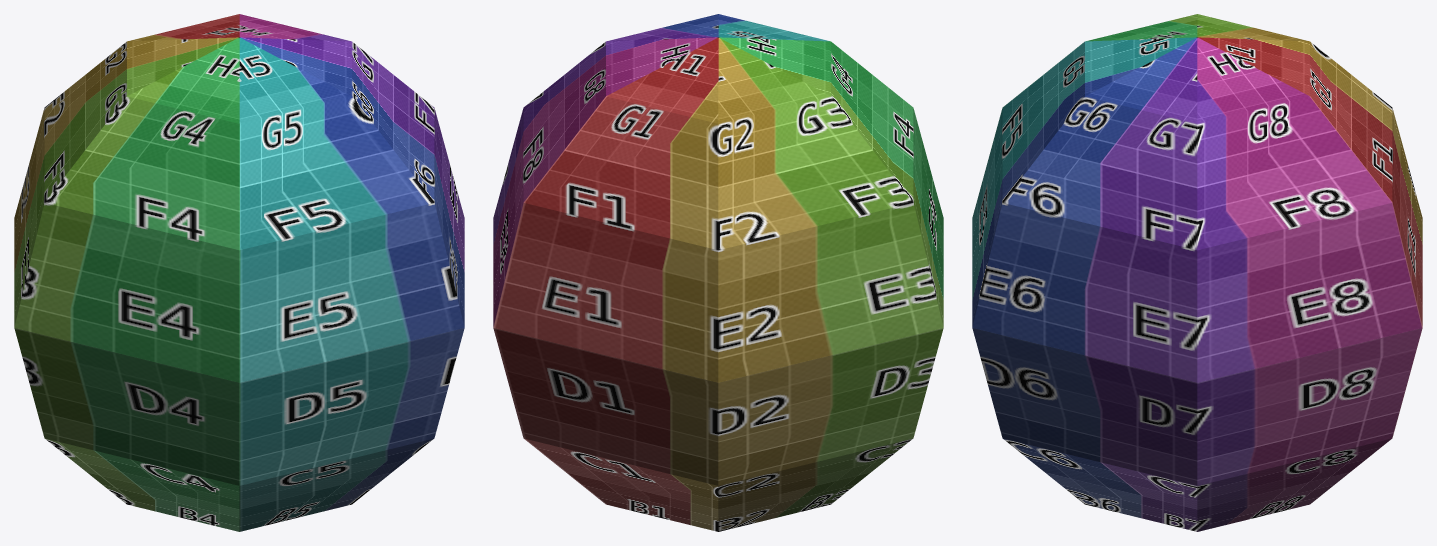
File: tex_test_6x6.fbx
The picture shows the model from 3 angles, left to right: view 1: azimuth 30°, elevation 25°; view 2: azimuth 150°, elevation 25°; view 3: azimuth 270°, elevation 25°; orthographic projection.
Visible parts, largest first — view 1: pSphere1; view 2: pSphere1; view 3: pSphere1.
Part boxes in pixels (x1,y1,x2,y2): pSphere1: [14, 14, 464, 531]; pSphere1: [493, 14, 943, 531]; pSphere1: [972, 14, 1422, 531].
Size of the model in its own units: 2 by 2 by 1.73.
